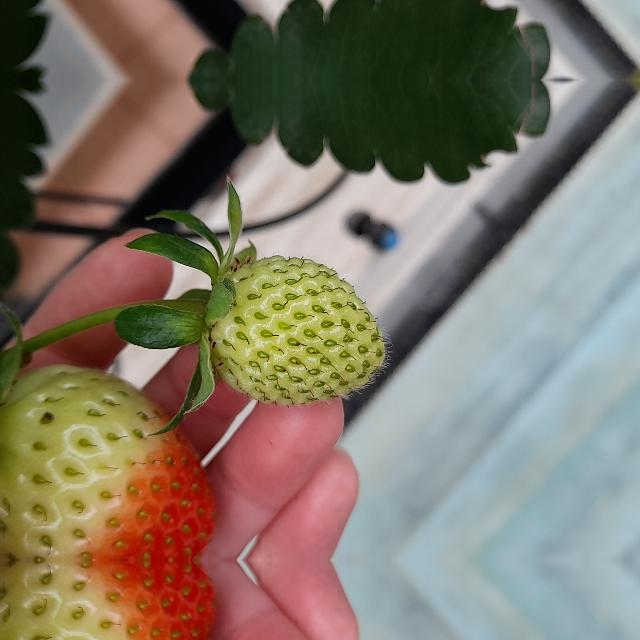Health_25: (210, 255, 384, 405)
Health_75: (0, 364, 220, 560), (0, 560, 220, 640)
